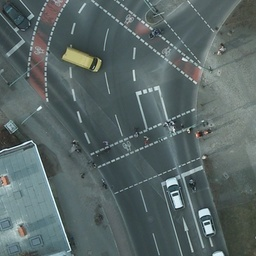car: (0, 1, 34, 32), (164, 176, 186, 210), (197, 209, 218, 238)
van: (62, 46, 104, 73)
